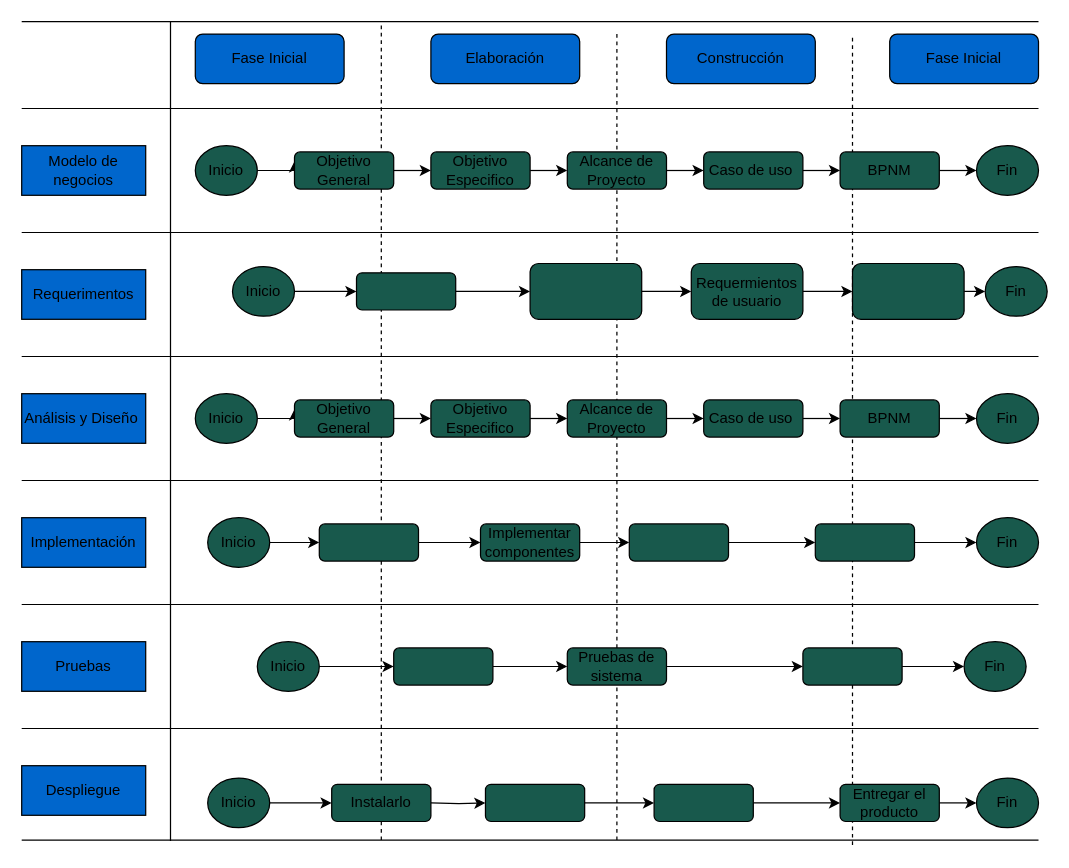
Image size: 1069x868. Some labels were removed from this diagram. The shapes that lost their labels are listed below. From the top down, each one's centre as x and y in pixels, then its label:
At point (405, 291): "Requerimentos del Cliente".
At point (585, 290): "Requerimentos Funcionales y no Funcioanles".
At point (907, 290): "Documentacion IEEE830".
At point (368, 542): "Elementos de diseño y UI".
At point (678, 542): "Codificar componentes".
At point (864, 542): "Validar Arquitectura".
At point (442, 666): "Pruebas de integración".
At point (852, 666): "Detectar defectos".
At point (534, 802): "Mostrarlo al usuario".
At point (703, 802): "Prueba Beta".
